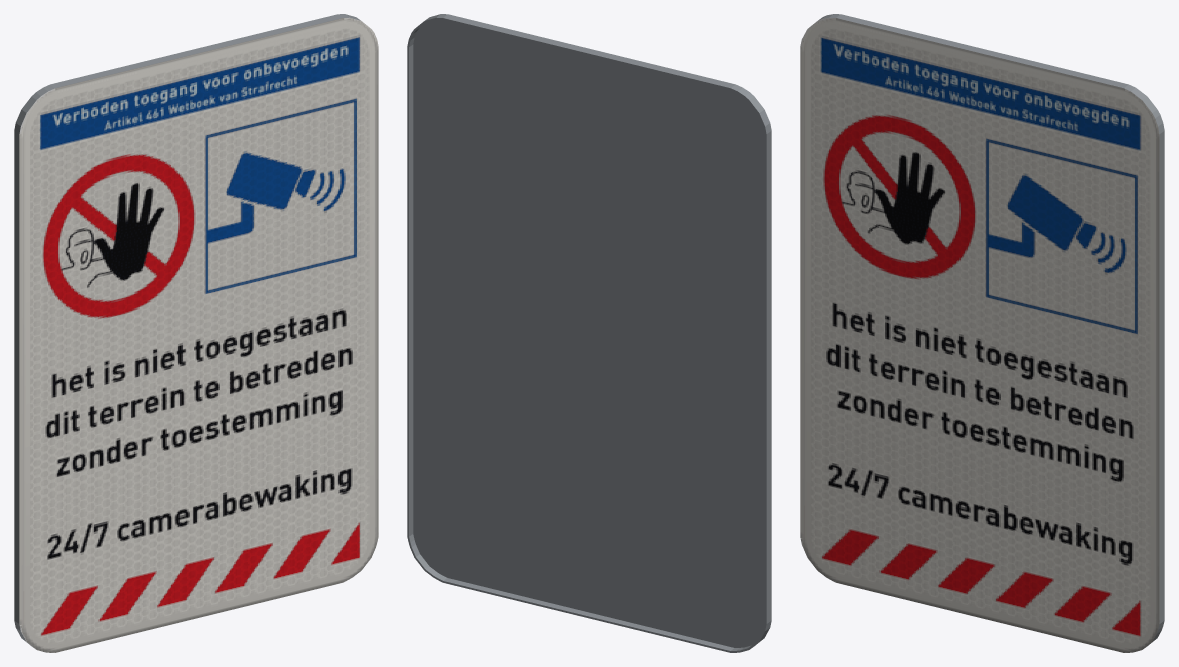
3 views of the same model, side by side, from view 1: azimuth 30°, elevation 25°; view 2: azimuth 150°, elevation 25°; view 3: azimuth 330°, elevation 25° (orthographic).
Visible parts, largest first — view 1: cat_7e929e22e2b0729c; view 2: cat_7e929e22e2b0729c; view 3: cat_7e929e22e2b0729c.
Boxes of the visible parts, bbox=[...] form: cat_7e929e22e2b0729c: bbox=[14, 14, 378, 652]; cat_7e929e22e2b0729c: bbox=[407, 14, 771, 652]; cat_7e929e22e2b0729c: bbox=[800, 14, 1164, 652].
Size of the model in its own units: 0.6 by 0.015 by 0.9012.
Materials: 2 (1 with a texture image).
